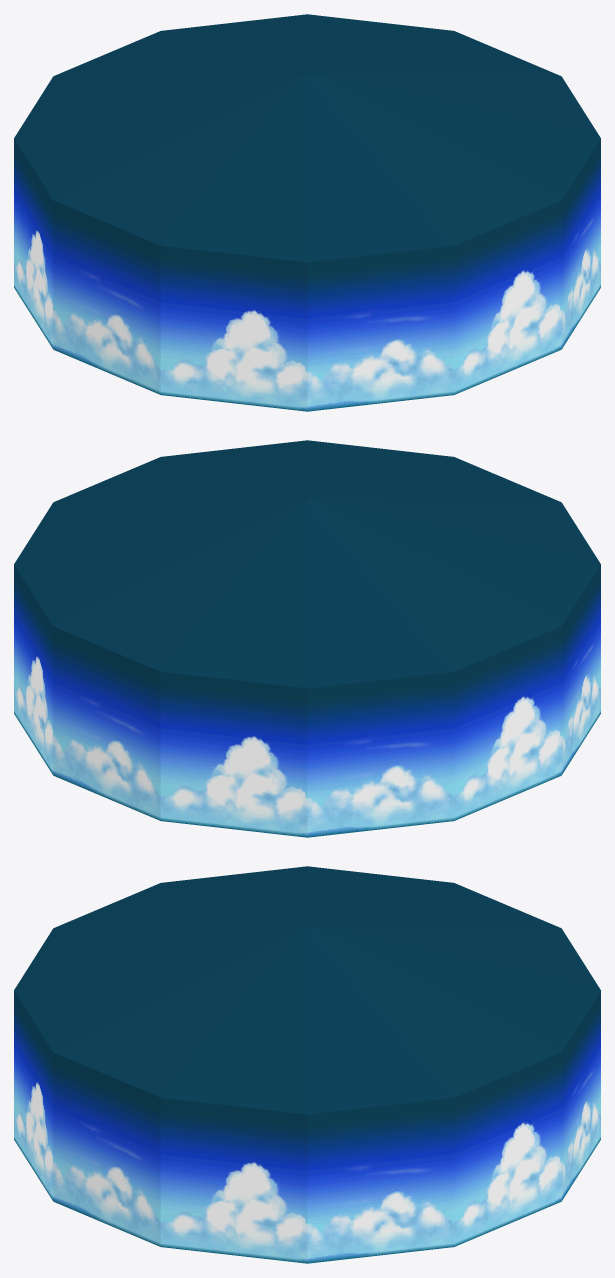
The model's file is mini_stage3_V.glb.
The picture shows the model from 3 angles, top to bottom: view 1: azimuth 30°, elevation 25°; view 2: azimuth 150°, elevation 25°; view 3: azimuth 270°, elevation 25°; orthographic projection.
Parts seen in each view (by area): view 1: mini_stage3_V; view 2: mini_stage3_V; view 3: mini_stage3_V.
Boxes of the visible parts, box(x1,y1,x2,y2) form: mini_stage3_V: box(14, 14, 600, 411); mini_stage3_V: box(14, 440, 600, 837); mini_stage3_V: box(14, 866, 600, 1263).
Bounding box in the file's own units: 375 × 150 × 375.
1 material, 1 textured.
